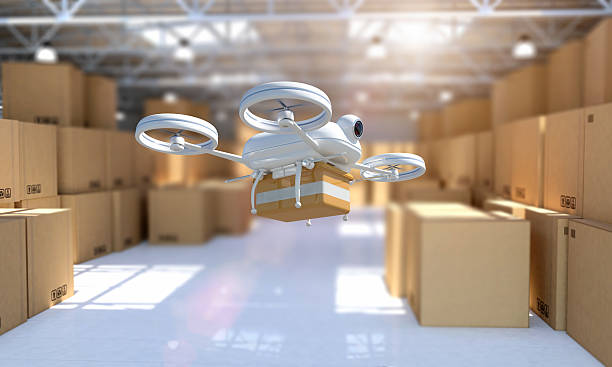Drone: (134, 78, 430, 192)
